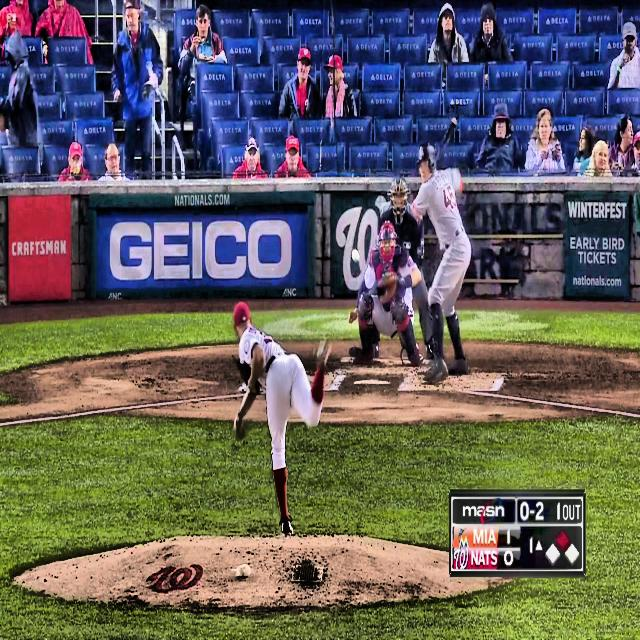baseball: (352, 248, 359, 263)
